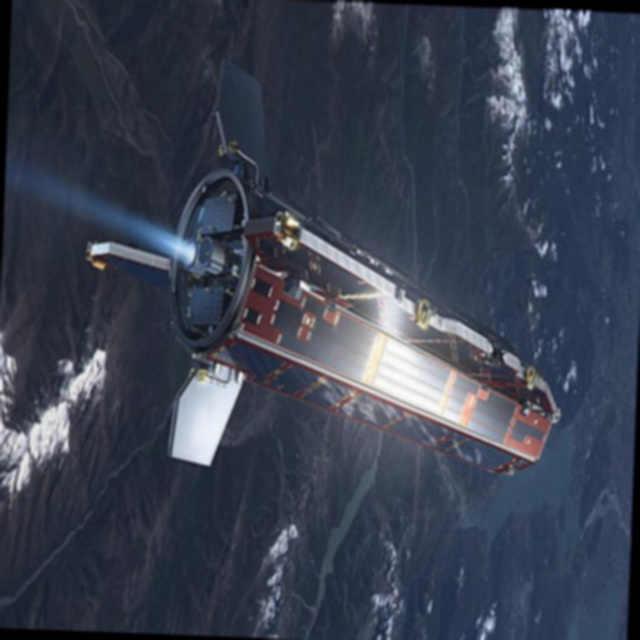medium_debris: (77, 65, 577, 521)
